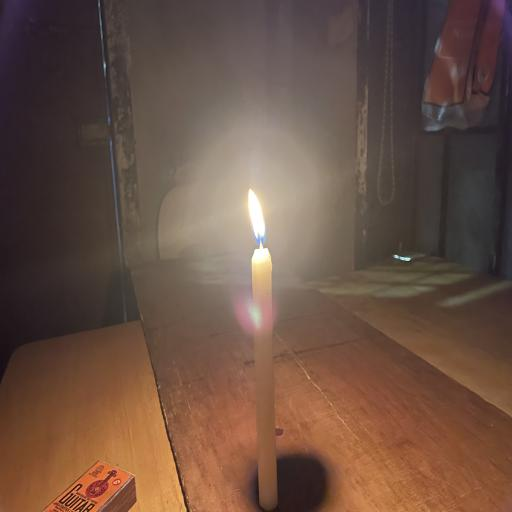fire: (221, 177, 286, 268)
